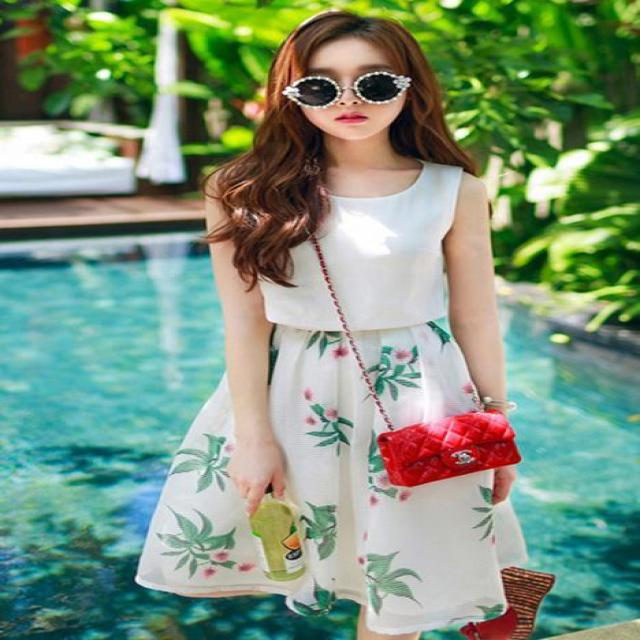skirt: (137, 315, 502, 616)
vest: (231, 159, 462, 332)
